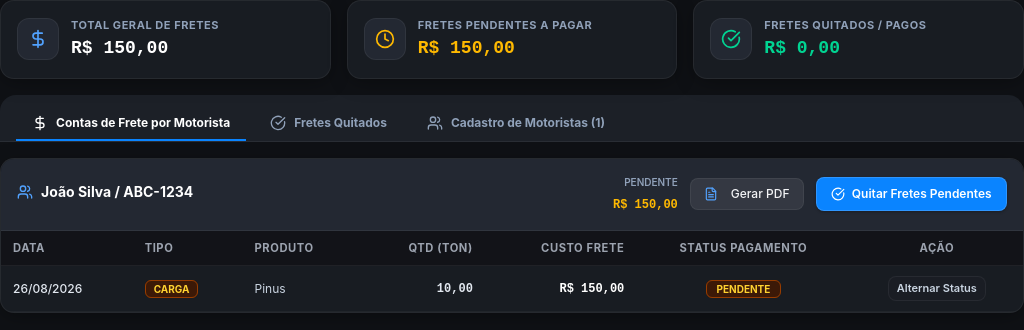
Scenario: Gestão de Motoristas — abas de fretes pendentes x quitados › um motorista sem fretes quitados não aparece na aba "Fretes Quitados"
The width and height of the screenshot is (1024, 330).
Click the button "Fretes Quitados" at (329, 124), box [254,106,403,140]
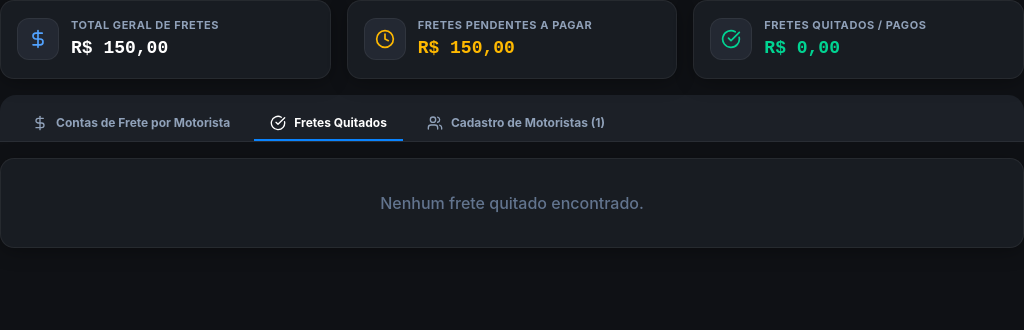
Expected: the text "Nenhum frete quitado encontrado." is shown, [0,158,1023,248]
Expected: the text "João Silva / ABC-1234" is gone
